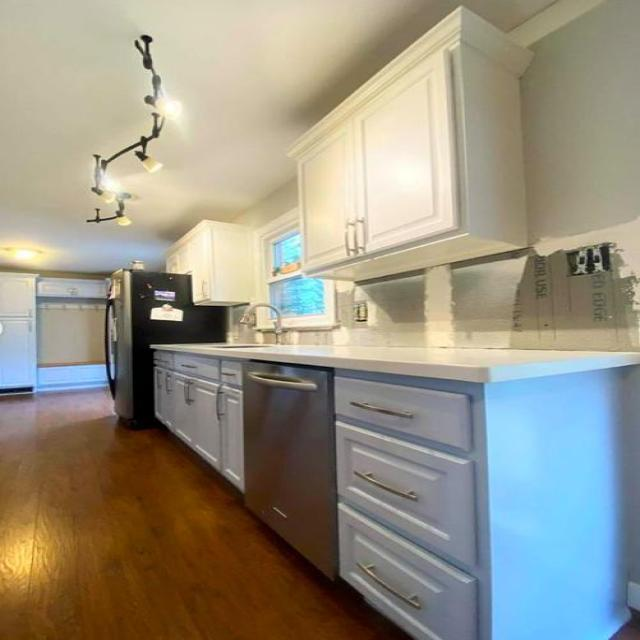dishwasher: (240, 357, 337, 582)
